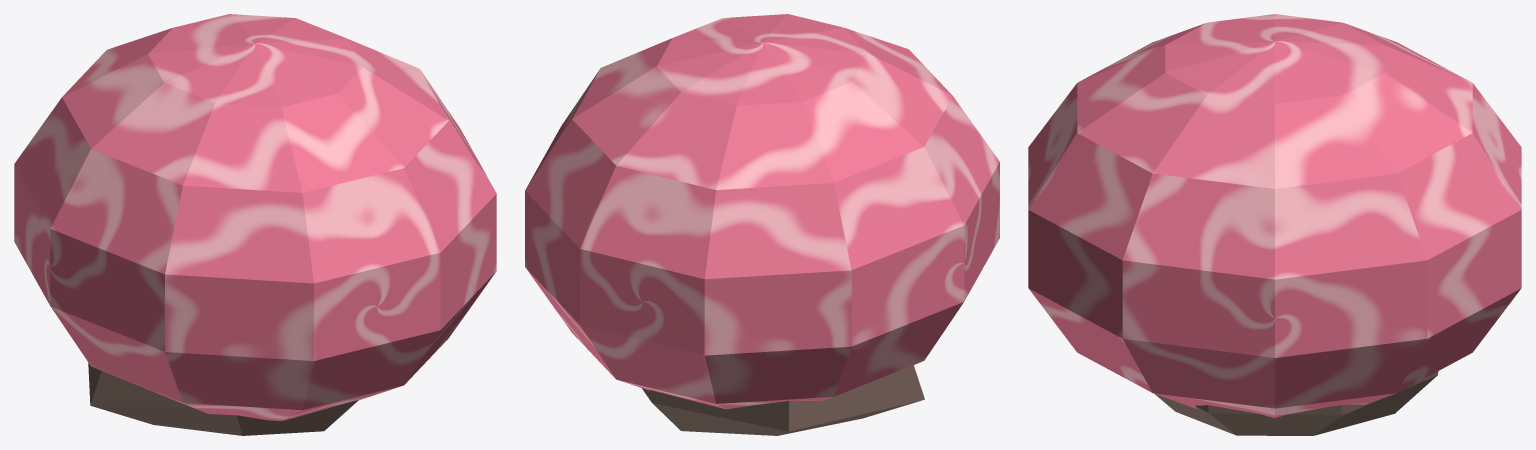
Rendered from BrainCoral.glb.
3 views of the same model, side by side, from view 1: azimuth 30°, elevation 25°; view 2: azimuth 150°, elevation 25°; view 3: azimuth 270°, elevation 25° (orthographic). The views are drawn at different scales.
Parts seen in each view (by area): view 1: BrainCoral; view 2: BrainCoral; view 3: BrainCoral.
Part boxes in pixels (x1=…): BrainCoral: x1=14, y1=14, x2=496, y2=435; BrainCoral: x1=525, y1=14, x2=999, y2=435; BrainCoral: x1=1028, y1=14, x2=1521, y2=435.
Size of the model in its own units: 2.34 by 1.94 by 2.41.
Materials: 1 (1 with a texture image).
